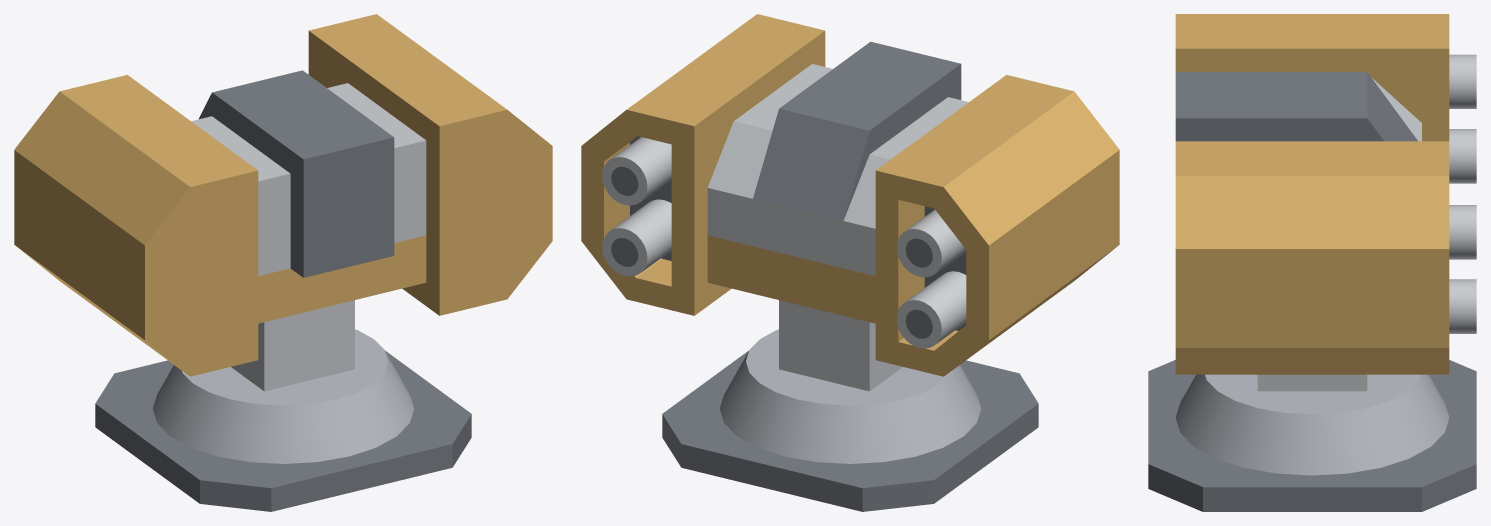
The model's file is turret_double.glb.
The picture shows the model from 3 angles, left to right: view 1: azimuth 30°, elevation 25°; view 2: azimuth 150°, elevation 25°; view 3: azimuth 270°, elevation 25°; orthographic projection. The views are drawn at different scales.
Parts seen in each view (by area): view 1: turret, turret_double; view 2: turret_double, turret; view 3: turret, turret_double.
Part boxes in pixels (x1,y1,x2,y2): turret: (14, 14, 552, 376); turret_double: (95, 70, 471, 511); turret_double: (602, 41, 1038, 511); turret: (581, 14, 1119, 376); turret: (1175, 14, 1449, 374); turret_double: (1148, 54, 1476, 511).
Bounding box in the file's own units: 0.9 × 0.7 × 0.6.
